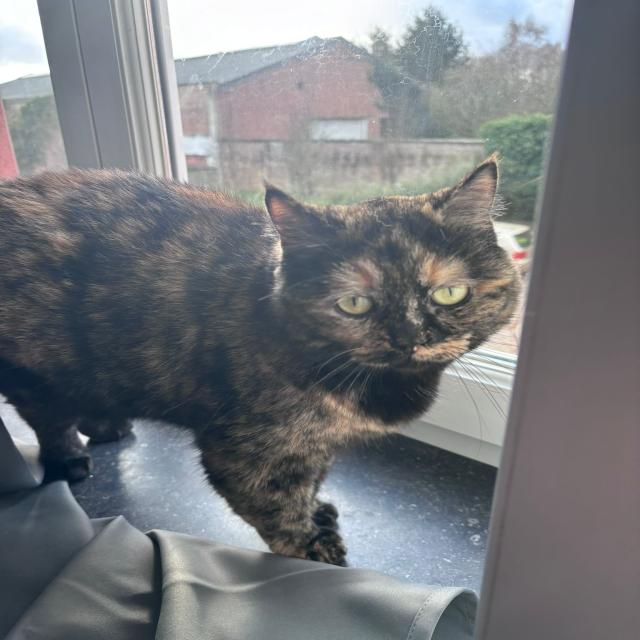authorized: (1, 149, 524, 567)
